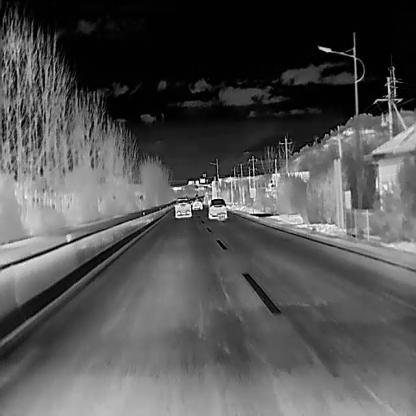car: (208, 198, 227, 220), (174, 197, 191, 218), (192, 198, 202, 209)
